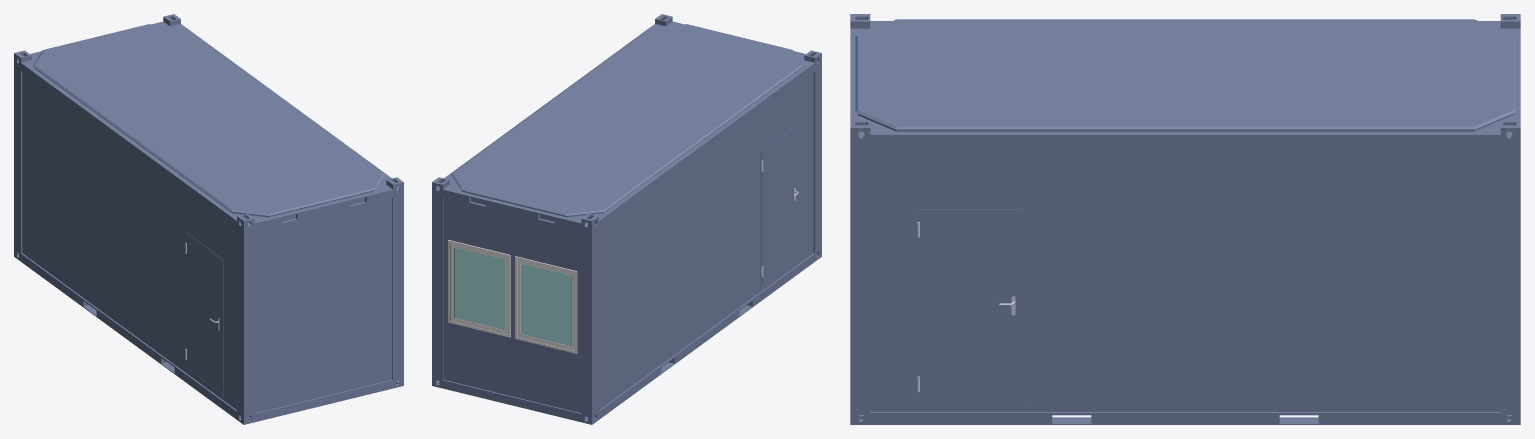
File: Büro längsseitig HC 2960 BC 2430.obj
3 views of the same model, side by side, from view 1: azimuth 30°, elevation 25°; view 2: azimuth 150°, elevation 25°; view 3: azimuth 270°, elevation 25° (orthographic). The views are drawn at different scales.
Visible parts, largest first — view 1: |Test_buerolängs~0|Root|Test-Büro2~0-1|color, |Test_buerolängs~0|Root|Cont-Tür~0-3|color-2; view 2: |Test_buerolängs~0|Root|Test-Büro2~0-1|color, |Test_buerolängs~0|Root|Cont-Tür~0-3|color-2, |Test_buerolängs~0|Root|Cont-Fenster~0-1|color-4, |Test_buerolängs~0|Root|Cont-Fenster~0-3|color-4, |Test_buerolängs~0|Root|Cont-Fenster~0-1|color-5, |Test_buerolängs~0|Root|Cont-Fenster~0-3|color-5; view 3: |Test_buerolängs~0|Root|Test-Büro2~0-1|color, |Test_buerolängs~0|Root|Cont-Tür~0-2|color-2.
Boxes of the visible parts, x1,y1,x2,y2 form: |Test_buerolängs~0|Root|Test-Büro2~0-1|color: (14, 14, 403, 424); |Test_buerolängs~0|Root|Cont-Tür~0-3|color-2: (185, 231, 223, 396); |Test_buerolängs~0|Root|Test-Büro2~0-1|color: (432, 14, 821, 424); |Test_buerolängs~0|Root|Cont-Tür~0-3|color-2: (760, 123, 798, 288); |Test_buerolängs~0|Root|Cont-Fenster~0-1|color-4: (454, 247, 504, 329); |Test_buerolängs~0|Root|Cont-Fenster~0-3|color-4: (521, 263, 571, 345); |Test_buerolängs~0|Root|Cont-Fenster~0-1|color-5: (448, 240, 510, 337); |Test_buerolängs~0|Root|Cont-Fenster~0-3|color-5: (515, 256, 577, 353); |Test_buerolängs~0|Root|Test-Büro2~0-1|color: (850, 14, 1520, 424); |Test_buerolängs~0|Root|Cont-Tür~0-2|color-2: (914, 206, 1025, 406).
Size of the model in its own units: 2.54 by 2.96 by 6.05.
